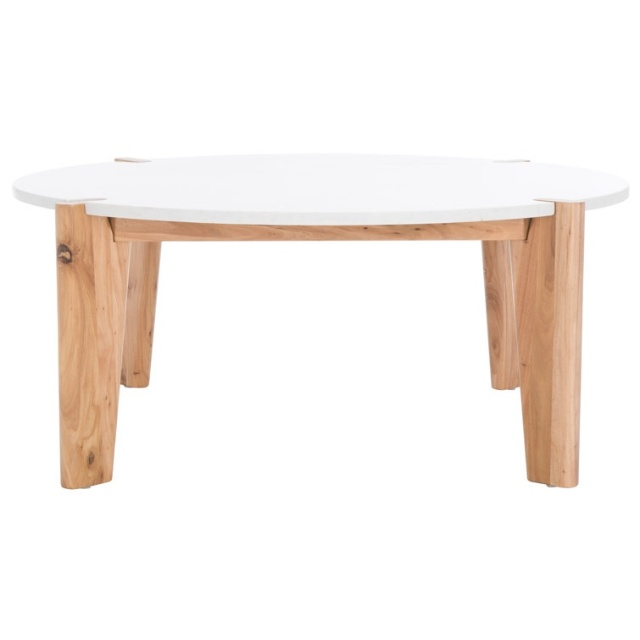obstacle: (13, 154, 627, 487)
